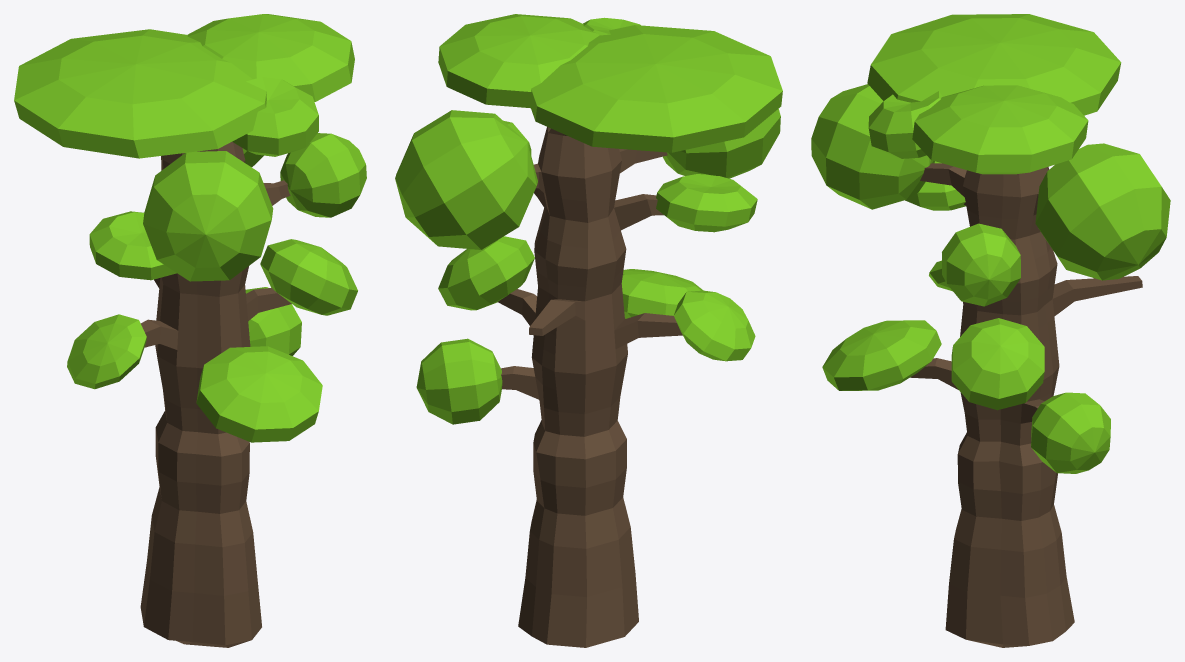
File: Tree03.FBX
3 views of the same model, side by side, from view 1: azimuth 30°, elevation 25°; view 2: azimuth 150°, elevation 25°; view 3: azimuth 270°, elevation 25° (orthographic). The views are drawn at different scales.
Visible parts, largest first — view 1: Box003; view 2: Box003; view 3: Box003.
Boxes of the visible parts, x1,y1,x2,y2 form: Box003: (14,14,366,647); Box003: (395,14,782,647); Box003: (811,14,1170,647).
Size of the model in its own units: 53.69 by 93.79 by 54.75.
